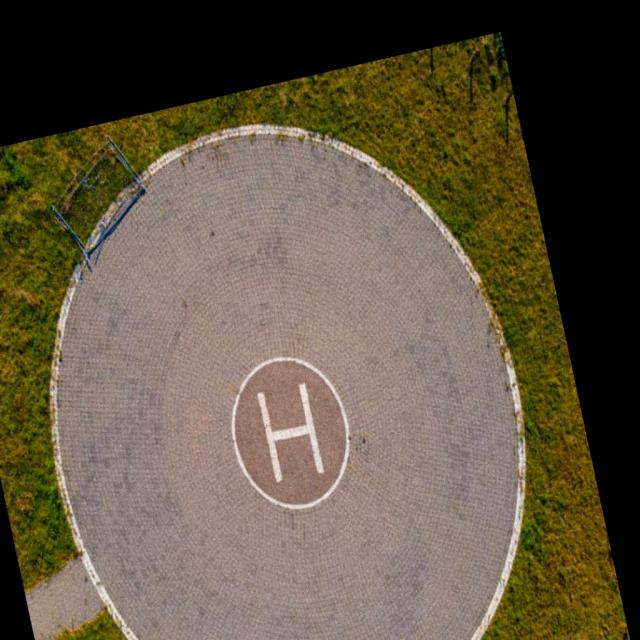helipad: (227, 351, 354, 511)
